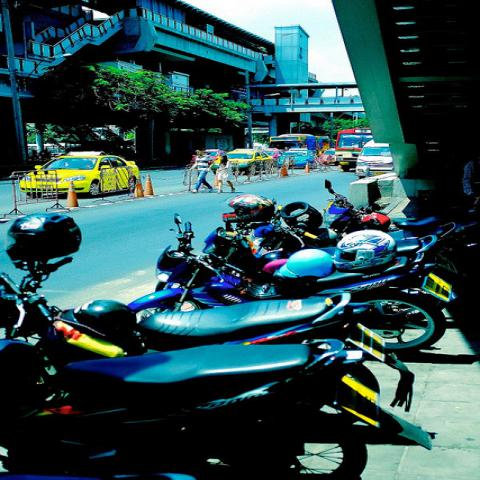bus: (336, 127, 374, 166), (268, 133, 317, 155)
car: (21, 150, 138, 202), (211, 146, 272, 174), (280, 150, 313, 166), (320, 151, 336, 161)
motorcycle: (0, 243, 441, 474), (1, 213, 412, 393), (128, 212, 452, 352), (200, 211, 469, 295), (223, 191, 465, 257)
truck: (354, 139, 394, 179)
